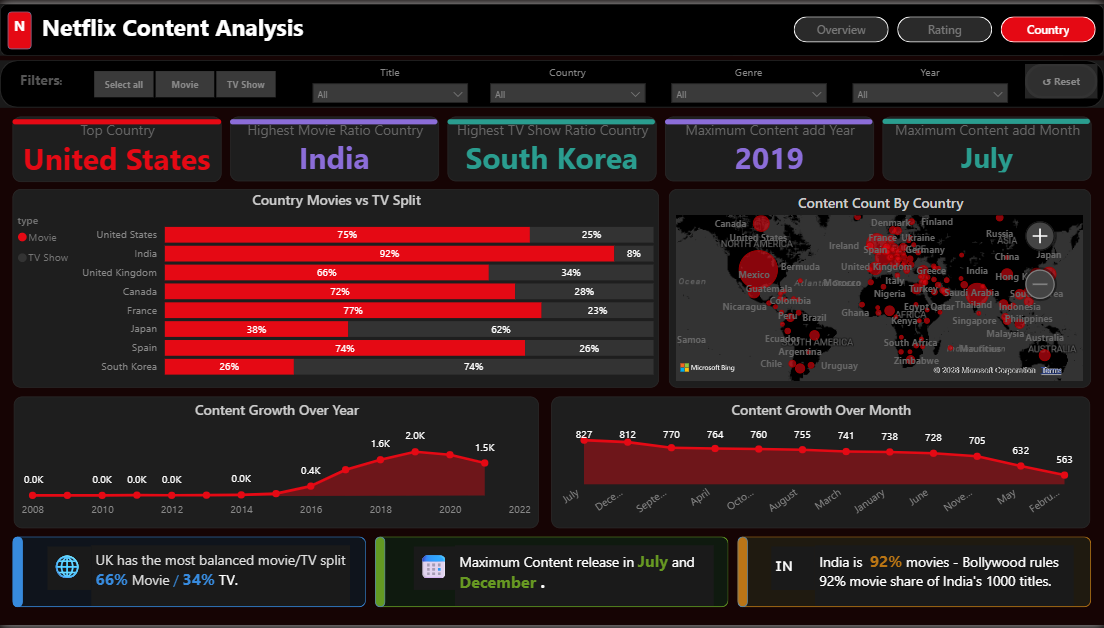

This screenshot's page, from the dashboard's own definition file:
{"tool":"powerbi","page":{"name":"Country","canvas":[1280,720],"ordinal":2},"visuals":[{"type":"shape","box":[0,0,1280,60],"z":0,"group":"g11"},{"type":"shape","box":[0,65,1280,55],"z":0,"group":"g10"},{"type":"card","title":"Top Country","fields":{"Values":["Measure Table.Top Country"]},"box":[15,130,242,75.6],"z":0,"group":"g9"},{"type":"card","title":"Highest Movie Ratio Country","fields":{"Values":["Measure Table.Top Movie Country"]},"box":[267,130,242,74.8],"z":0,"group":"g7"},{"type":"card","title":"Highest TV Show Ratio Country","fields":{"Values":["Measure Table.Top TV Country"]},"box":[519,130,242,74.8],"z":0,"group":"g6"},{"type":"card","title":"Maximum Content add Year","fields":{"Values":["Measure Table.Highest Content_added Year"]},"box":[771,130,242,74.8],"z":0,"group":"g4"},{"type":"card","title":"Maximum Content add Month","fields":{"Values":["Measure Table.Highest Content_added Month"]},"box":[1023.3,130,242,74],"z":0,"group":"g2"},{"type":"map","title":"Content Count By Country","fields":{"Category":["clean_netflix_shows_movies_dataset.country"],"Size":["Count(clean_netflix_shows_movies_dataset.show_id)"]},"box":[775.6,215,489.7,230.8],"z":0},{"type":"shape","box":[15.5,618,409.9,82],"z":0,"group":"g8"},{"type":"shape","box":[435.2,618,409.9,82],"z":0,"group":"g5"},{"type":"shape","box":[855,618,410,82],"z":500,"group":"g3"},{"type":"pageNavigator","box":[920,15,352,30],"z":1000,"group":"g11"},{"type":"actionButton","box":[1188,69,84,40],"z":1000,"group":"g10"},{"type":"shape","box":[15,130,242,12.3],"z":1000,"group":"g9"},{"type":"shape","box":[267,130,240.5,12.3],"z":1000,"group":"g7"},{"type":"shape","box":[519,130,240.5,12.3],"z":1000,"group":"g6"},{"type":"shape","box":[771,130,240.5,12.3],"z":1000,"group":"g4"},{"type":"shape","box":[1023.3,130,240.5,11.2],"z":1000,"group":"g2"},{"type":"lineChart","title":"Content Growth Over Month","fields":{"Category":["clean_netflix_shows_movies_dataset.Month Name"],"Y":["Count(clean_netflix_shows_movies_dataset.show_id)"]},"box":[639.3,455.2,624.5,153],"z":1000},{"type":"shape","box":[15,618,12,82],"z":1000,"group":"g8"},{"type":"shape","box":[435,618,12,82],"z":1000,"group":"g5"},{"type":"shape","box":[855,618,12,82],"z":1000,"group":"g3"},{"type":"textbox","box":[106,628,300,70],"z":1250,"group":"g8"},{"type":"textbox","box":[945,628,300,70],"z":1250,"group":"g3"},{"type":"textbox","box":[528,628,300,70],"z":1500,"group":"g5"},{"type":"textbox","box":[56,630,50,50],"z":1500,"group":"g8"},{"type":"textbox","box":[894,630,50.3,50.3],"z":1500,"group":"g3"},{"type":"shape","box":[8,8,28,44],"z":2000,"group":"g11"},{"type":"slicer","title":"Year","fields":{"Values":["clean_netflix_shows_movies_dataset.year_added"]},"box":[978,70,200,45],"z":2000,"group":"g10"},{"type":"textbox","box":[480,630,50,50],"z":2000,"group":"g5"},{"type":"textbox","box":[8,8,28,45],"z":3000,"group":"g11"},{"type":"slicer","title":"Title","fields":{"Values":["clean_netflix_shows_movies_dataset.title"]},"box":[352,70,200,45],"z":3000,"group":"g10"},{"type":"textbox","box":[44,8,580,44],"z":4000,"group":"g11"},{"type":"slicer","title":"Type","fields":{"Values":["clean_netflix_shows_movies_dataset.type"]},"box":[88,75,250,35],"z":4000,"group":"g10"},{"type":"hundredPercentStackedBarChart","title":"Country Movies vs TV Split","fields":{"Category":["clean_netflix_shows_movies_dataset.country"],"Series":["clean_netflix_shows_movies_dataset.type"],"Y":["Count(clean_netflix_shows_movies_dataset.show_id)"]},"box":[15,214.7,749.7,230.7],"z":4000},{"type":"slicer","title":"Country","fields":{"Values":["clean_netflix_shows_movies_dataset.country"]},"box":[558,70,200,45],"z":5000,"group":"g10"},{"type":"lineChart","title":"Content Growth Over Year","fields":{"Category":["clean_netflix_shows_movies_dataset.year_added"],"Y":["Count(clean_netflix_shows_movies_dataset.show_id)"]},"box":[16,455.2,608.6,153],"z":5000},{"type":"slicer","title":"Genre","fields":{"Values":["clean_netflix_shows_movies_dataset.genre"]},"box":[768,70,200,45],"z":6000,"group":"g10"},{"type":"group","id":"g1","title":"Insights","box":[15,618,1250,82],"z":6500},{"type":"textbox","box":[8.6,73.6,78,33],"z":7000,"group":"g10"},{"type":"group","id":"g2","title":"Max  Month TV Content ","box":[1023.3,130,242,74],"z":12000},{"type":"group","id":"g3","title":"INSIGHT3","box":[855,618,410,82],"z":13000,"group":"g1"},{"type":"group","id":"g4","title":"Max year content release grp","box":[771,130,242,74.8],"z":13375},{"type":"group","id":"g5","title":"INSIGHT2","box":[435,618,410.1,82],"z":14000,"group":"g1"},{"type":"group","id":"g6","title":"Highest Tv ratio review","box":[519,130,242,74.8],"z":14063},{"type":"group","id":"g7","title":"Highest movie ratio grp","box":[267,130,242,74.8],"z":14407},{"type":"group","id":"g8","title":"INSIGHT1","box":[15,618,410.4,82],"z":14500,"group":"g1"},{"type":"group","id":"g9","title":"Top Country grp","box":[15,130,242,75.6],"z":14579},{"type":"group","id":"g10","title":"Slicer panel","box":[0,65,1280,55],"z":14751},{"type":"group","id":"g11","title":"Dashboard Title Panel","box":[0,0,1280,60],"z":15001}]}

Visuals, with their boxes in screenshot pixels (x1, y1, x2, y2), scaled from the page's 1280x720 canvas onto the 1104x628 screenshot:
shape: 0/0/1103/52
shape: 0/57/1103/105
"Top Country" card: 13/113/222/179
"Highest Movie Ratio Country" card: 230/113/439/179
"Highest TV Show Ratio Country" card: 448/113/656/179
"Maximum Content add Year" card: 665/113/874/179
"Maximum Content add Month" card: 883/113/1091/178
"Content Count By Country" map: 669/188/1091/389
shape: 13/539/367/611
shape: 375/539/729/611
shape: 737/539/1091/611
pageNavigator: 794/13/1097/39
actionButton: 1025/60/1097/95
shape: 13/113/222/124
shape: 230/113/438/124
shape: 448/113/655/124
shape: 665/113/872/124
shape: 883/113/1090/123
"Content Growth Over Month" lineChart: 551/397/1090/530
shape: 13/539/23/611
shape: 375/539/386/611
shape: 737/539/748/611
textbox: 91/548/350/609
textbox: 815/548/1074/609
textbox: 455/548/714/609
textbox: 48/550/91/593
textbox: 771/550/814/593
shape: 7/7/31/45
"Year" slicer: 844/61/1016/100
textbox: 414/550/457/593
textbox: 7/7/31/46
"Title" slicer: 304/61/476/100
textbox: 38/7/538/45
"Type" slicer: 76/65/292/96
"Country Movies vs TV Split" hundredPercentStackedBarChart: 13/187/660/388
"Country" slicer: 481/61/654/100
"Content Growth Over Year" lineChart: 14/397/539/530
"Genre" slicer: 662/61/835/100
"Insights" group: 13/539/1091/611
textbox: 7/64/75/93
"Max  Month TV Content " group: 883/113/1091/178
"INSIGHT3" group: 737/539/1091/611
"Max year content release grp" group: 665/113/874/179
"INSIGHT2" group: 375/539/729/611
"Highest Tv ratio review" group: 448/113/656/179
"Highest movie ratio grp" group: 230/113/439/179
"INSIGHT1" group: 13/539/367/611
"Top Country grp" group: 13/113/222/179
"Slicer panel" group: 0/57/1103/105
"Dashboard Title Panel" group: 0/0/1103/52
